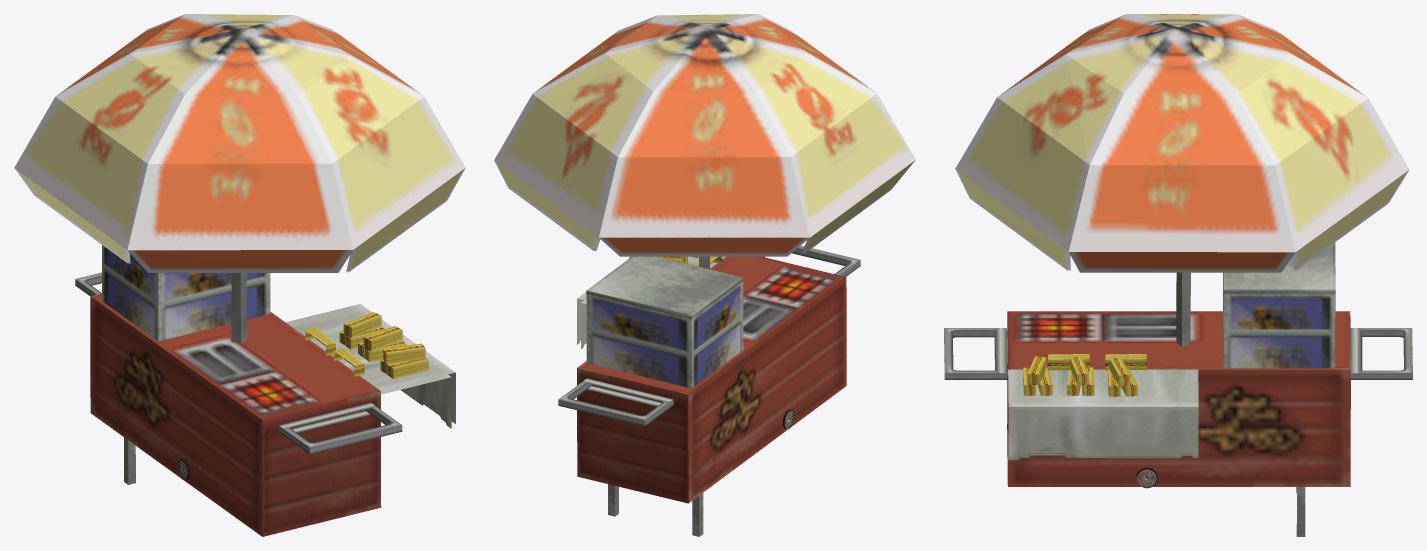
The model's file is HotdogCart.obj.
The picture shows the model from 3 angles, left to right: view 1: azimuth 30°, elevation 25°; view 2: azimuth 150°, elevation 25°; view 3: azimuth 270°, elevation 25°; orthographic projection. The views are drawn at different scales.
Parts seen in each view (by area): view 1: hotdogstand; view 2: hotdogstand; view 3: hotdogstand.
Part boxes in pixels (x1=…): hotdogstand: x1=14, y1=14, x2=465, y2=536; hotdogstand: x1=494, y1=14, x2=915, y2=536; hotdogstand: x1=944, y1=14, x2=1412, y2=536.
Bounding box in the file's own units: 2.72 × 3.71 × 3.24.
Materials: 2 (2 with a texture image).
